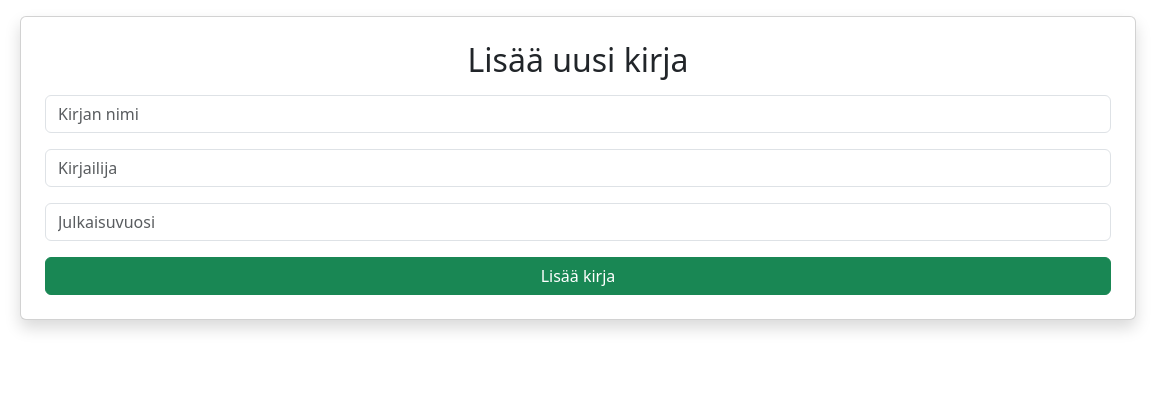
AddBook component › shows error message on failed request
Täytetään vaaditut kentät, jotta lomake validi ja submit laukaistaan
Type "Testikirja" into the field with placeholder "Kirjan nimi". click: (578,114)
box: [45, 95, 1111, 133]
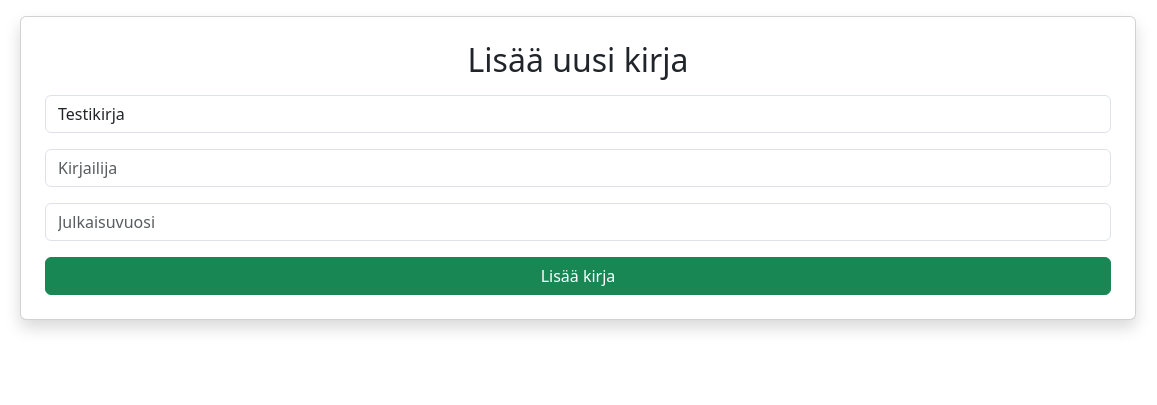
Type "Testaaja" into the field with placeholder "Kirjailija". click: (578,168)
box: [45, 149, 1111, 187]
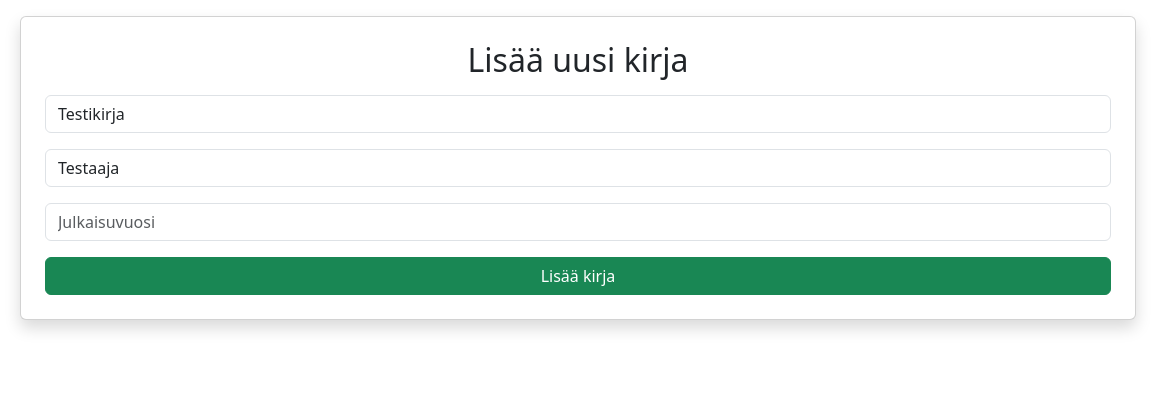
Type "2023" into the number field with placeholder "Julkaisuvuosi". click: (578,222)
box: [45, 203, 1111, 241]
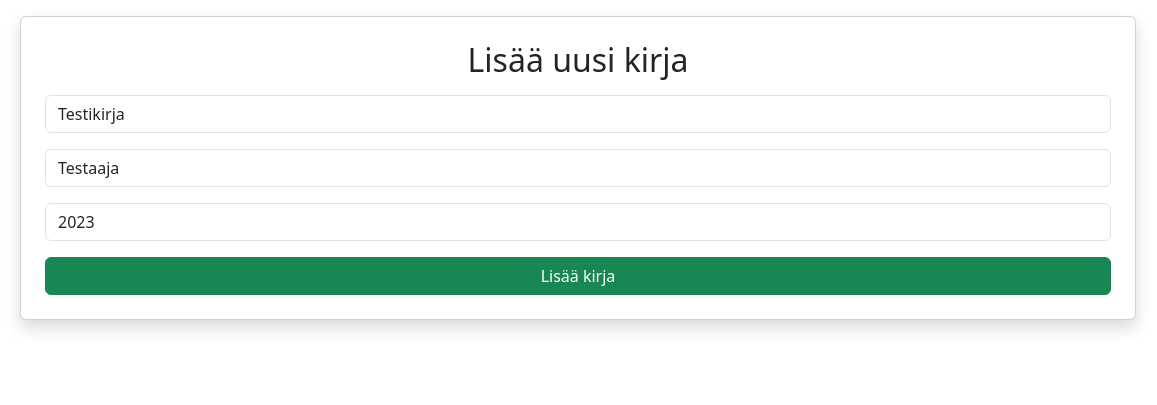
Klikataan submit-nappia
Click the button "Lisää kirja". click: (578,276)
box: [45, 257, 1111, 295]
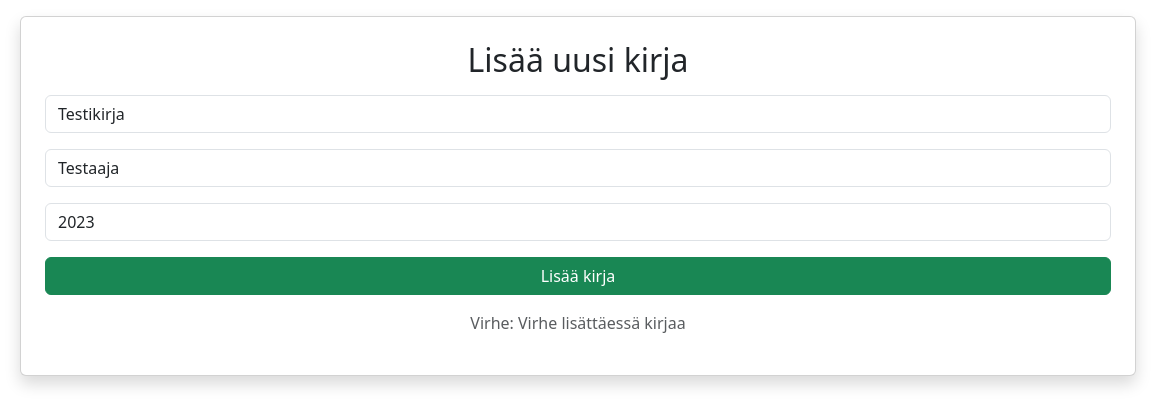
Check: the text "Virhe: Virhe lisättäessä kirjaa" is shown, box [470, 312, 686, 334]
